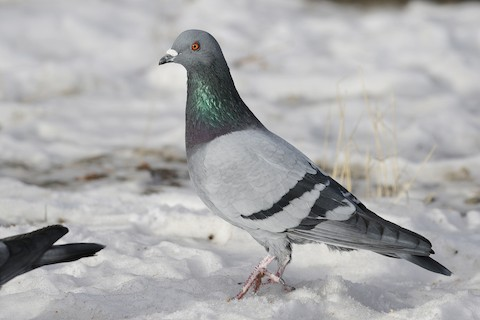pigeon: (155, 27, 455, 300)
